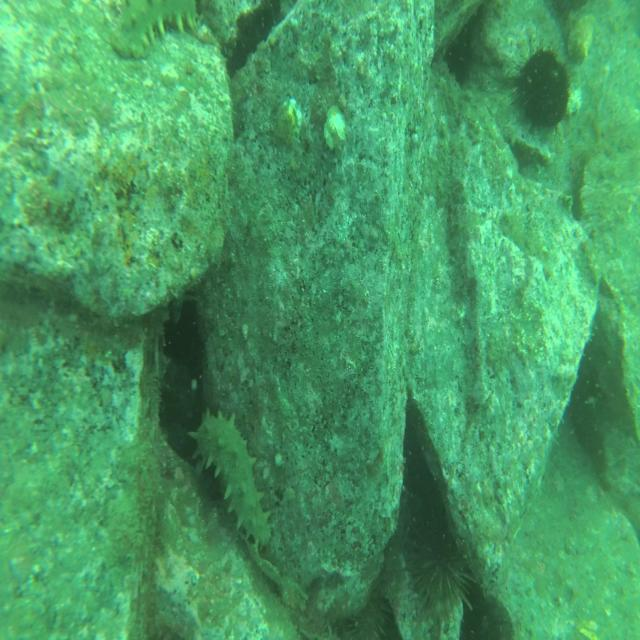echinus: (405, 499, 479, 620), (505, 38, 573, 134), (338, 590, 396, 637)
holothurian: (188, 400, 276, 550), (106, 0, 200, 54)
